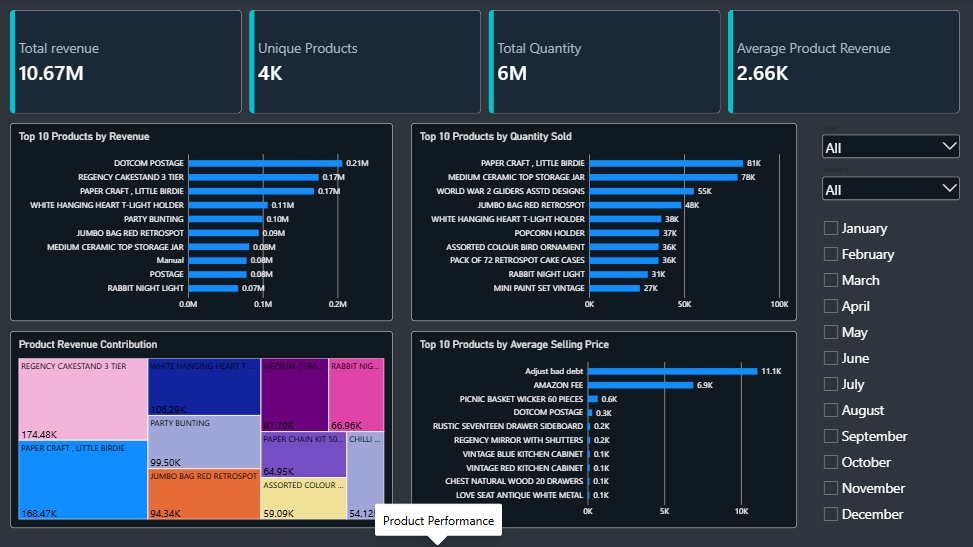

The page's visual inventory and layout, read from the dashboard file:
{"tool":"powerbi","page":{"name":"Product Performance","canvas":[1920,1080],"ordinal":3},"visuals":[{"type":"cardVisual","fields":{"Data":["public online_retail_sales.total revenue","public online_retail_sales.Unique Products","public online_retail_sales.Total Quantity","public online_retail_sales.Average Product Revenue"]},"box":[23.8,21.6,1868.4,203],"z":0},{"type":"clusteredBarChart","title":"Top 10 Products by Revenue","fields":{"Category":["public online_retail_sales.description"],"Y":["public online_retail_sales.total revenue"]},"box":[23.8,244.1,751.7,388.8],"z":1000},{"type":"clusteredBarChart","title":"Top 10 Products by Quantity Sold","fields":{"Category":["public online_retail_sales.description"],"Y":["public online_retail_sales.Total Quantity"]},"box":[810,244.1,758.2,388.8],"z":2000},{"type":"treemap","title":"Product Revenue Contribution","fields":{"Group":["public online_retail_sales.description"],"Values":["public online_retail_sales.total revenue"]},"box":[23.8,652.3,751.7,386.6],"z":3000},{"type":"clusteredBarChart","title":"Top 10 Products by Average Selling Price","fields":{"Category":["public online_retail_sales.description"],"Y":["public online_retail_sales.Average Selling Price"]},"box":[810,652.3,758.2,386.6],"z":4000},{"type":"slicer","fields":{"Values":["Custom_calender.Year"]},"box":[1613.5,244.1,278.6,82.1],"z":5000},{"type":"slicer","fields":{"Values":["public online_retail_sales.country"]},"box":[1613.5,326.2,278.6,69.1],"z":6000},{"type":"slicer","fields":{"Values":["Custom_calender.Month"]},"box":[1613.5,423.4,278.6,615.6],"z":7000}]}

Visuals, with their boxes in screenshot pixels (x1, y1, x2, y2), scaled from the page's 1920x1080 canvas onto the 973x547 screenshot:
cardVisual - public online_retail_sales.total revenue x public online_retail_sales.Unique Products: (left=12, top=11, right=959, bottom=114)
"Top 10 Products by Revenue" clusteredBarChart: (left=12, top=124, right=393, bottom=321)
"Top 10 Products by Quantity Sold" clusteredBarChart: (left=410, top=124, right=795, bottom=321)
"Product Revenue Contribution" treemap: (left=12, top=330, right=393, bottom=526)
"Top 10 Products by Average Selling Price" clusteredBarChart: (left=410, top=330, right=795, bottom=526)
slicer - Custom_calender.Year: (left=818, top=124, right=959, bottom=165)
slicer - public online_retail_sales.country: (left=818, top=165, right=959, bottom=200)
slicer - Custom_calender.Month: (left=818, top=214, right=959, bottom=526)
